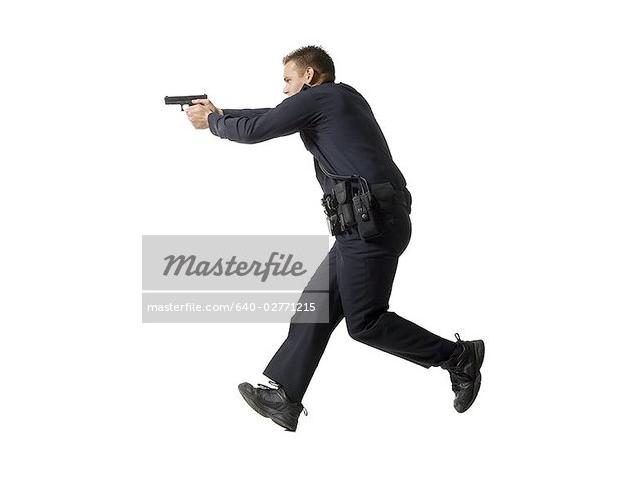pistol: (163, 93, 214, 131)
